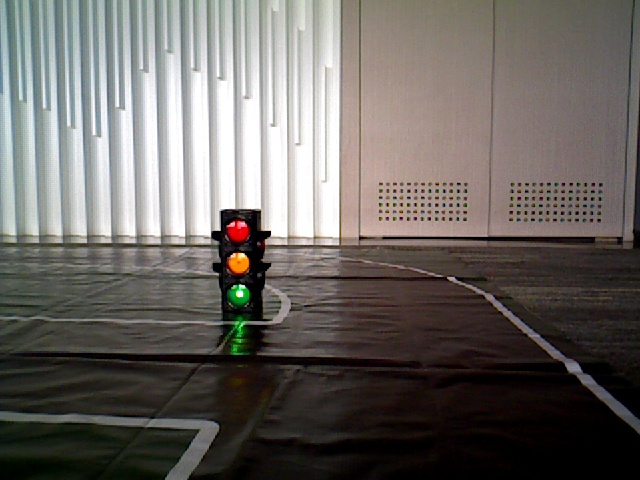green: (224, 213, 257, 314)
